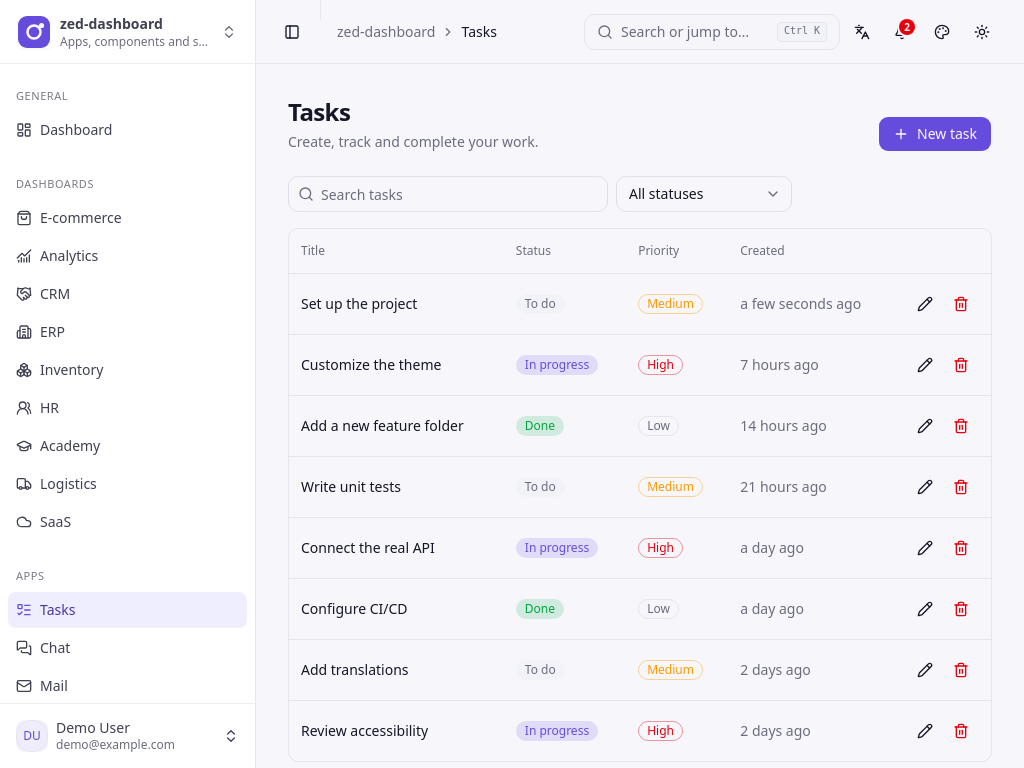
Test: Tasks feature › deletes a task after confirmation
The width and height of the screenshot is (1024, 768).
Click the button named "Delete" in the row of "Set up the project" at (961, 304), box [943,286,979,322]
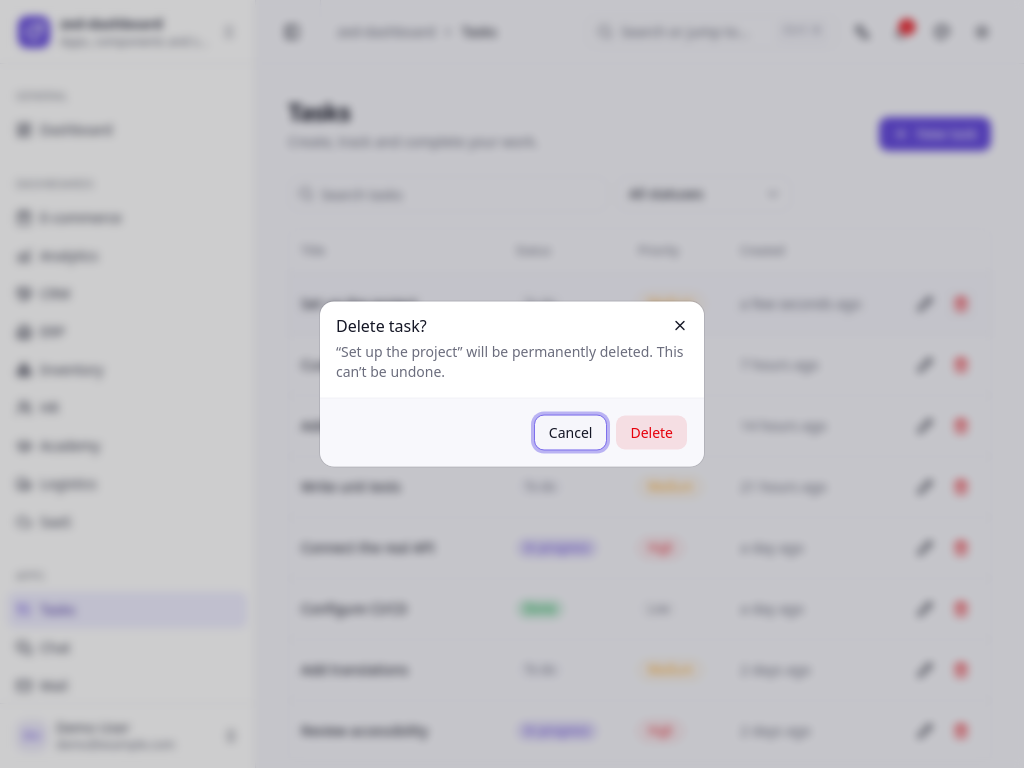
Click the button "Delete" at (652, 432), box [615,414,688,450]
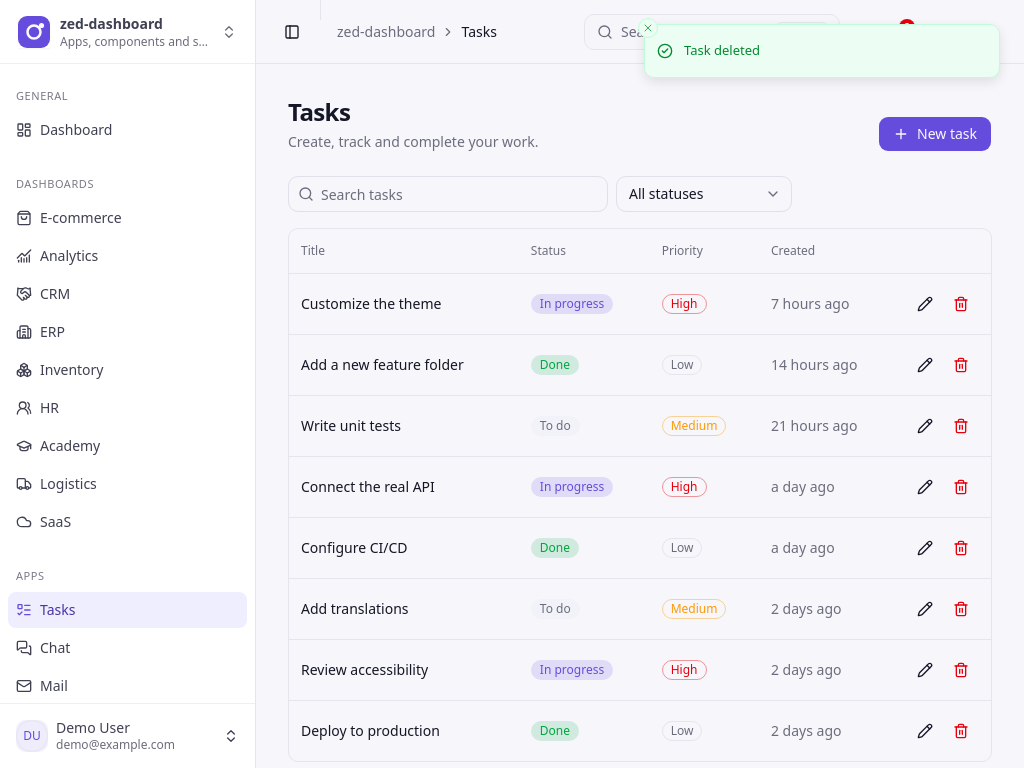
Expected: the link "Set up the project" is gone
